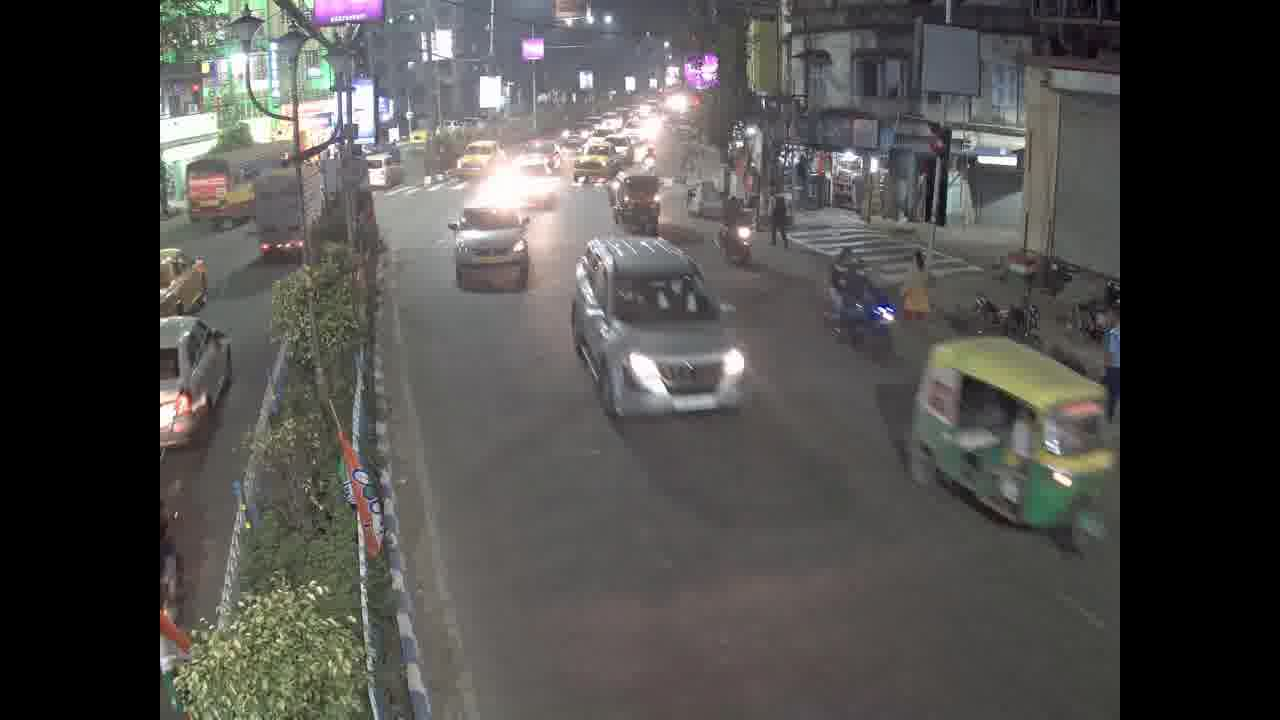auto-rickshaw: (925, 335, 1107, 550), (614, 174, 676, 236)
bike: (813, 283, 897, 363), (973, 289, 1028, 338), (710, 219, 752, 274)
car: (557, 230, 742, 421), (439, 190, 538, 290), (502, 155, 560, 206), (453, 133, 506, 178), (573, 143, 619, 183)
person: (827, 230, 875, 302), (761, 183, 801, 252), (901, 243, 935, 316)
